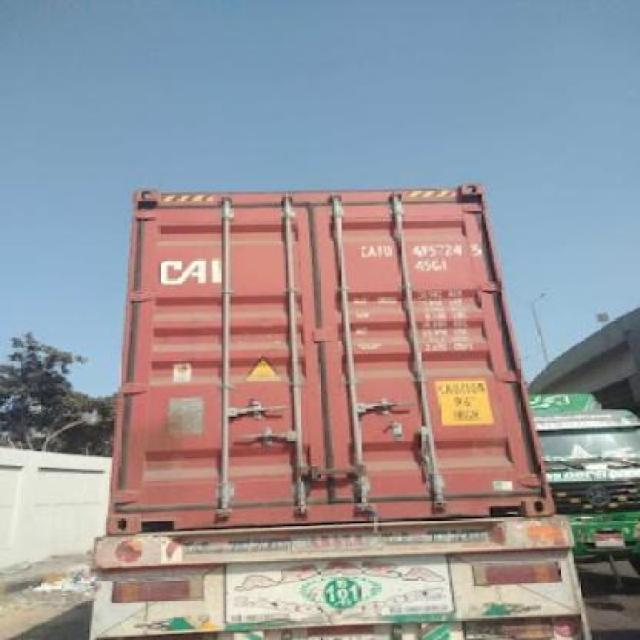ISO: (413, 260, 446, 274)
container_number: (358, 240, 478, 260)
